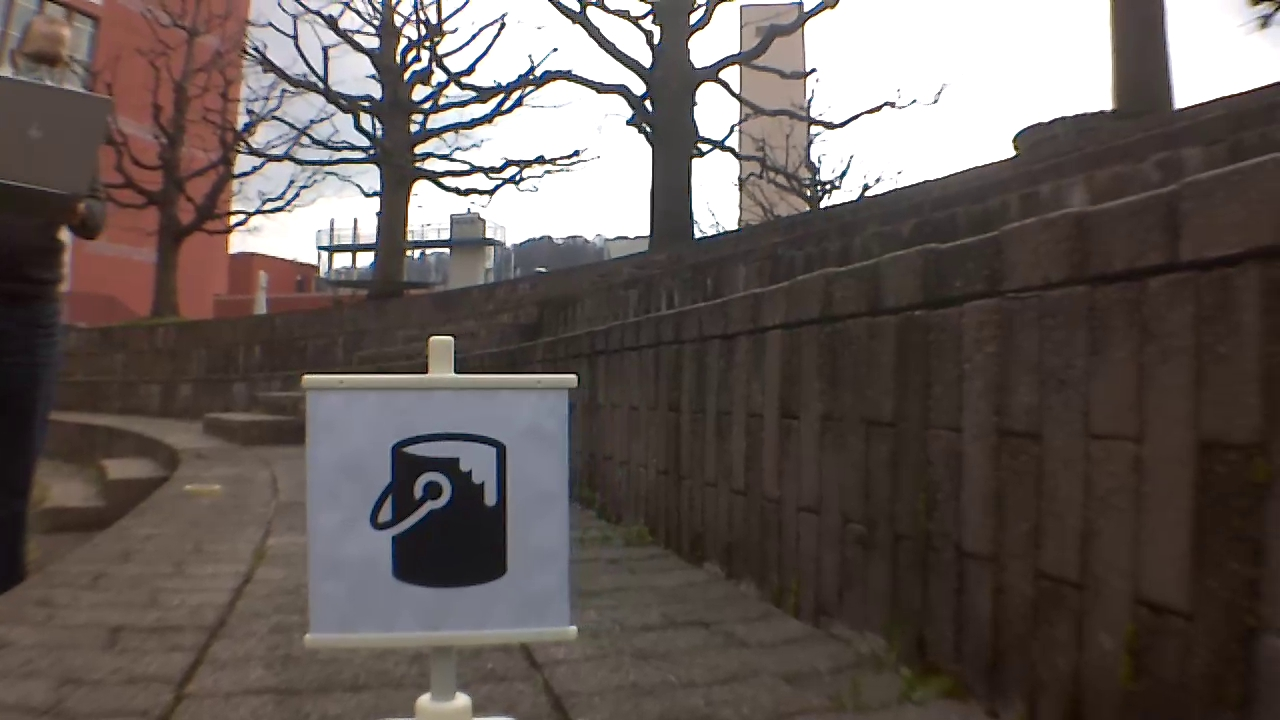bucket: (359, 430, 517, 595)
